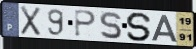9: (46, 8, 65, 37)
A: (150, 14, 179, 43)
P: (74, 9, 98, 38)
S: (125, 11, 154, 42), (98, 11, 124, 41)
X: (19, 5, 42, 37)
